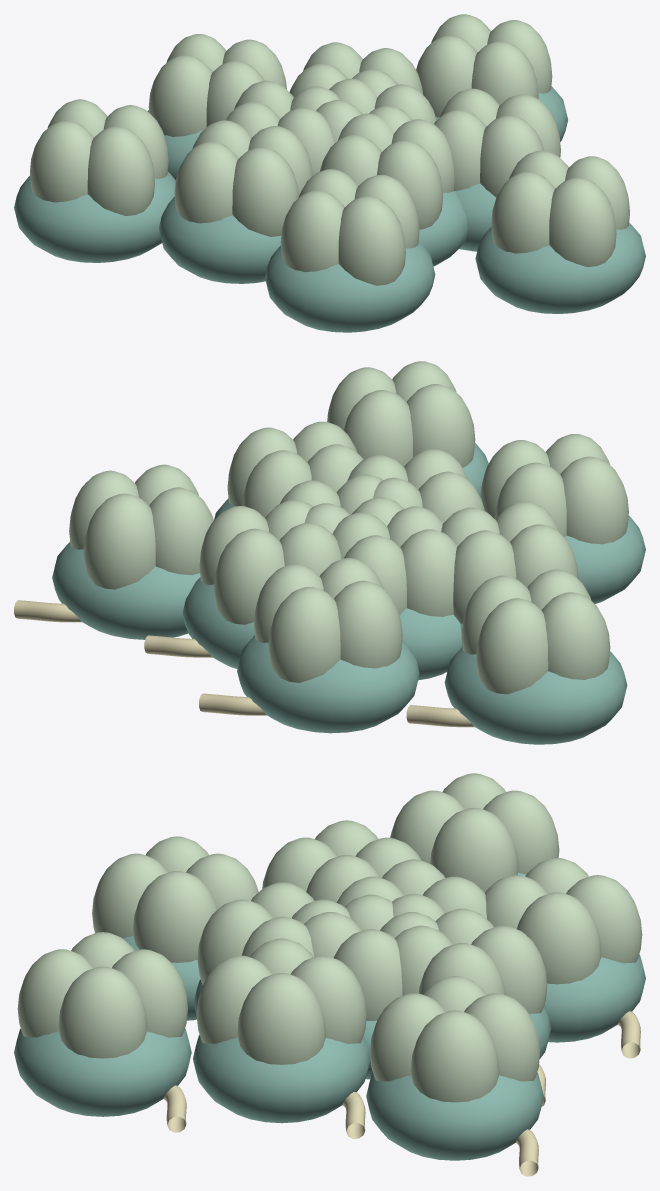
Rendered from bio_oxygen_reef_06_near.glb.
The picture shows the model from 3 angles, top to bottom: view 1: azimuth 30°, elevation 25°; view 2: azimuth 150°, elevation 25°; view 3: azimuth 270°, elevation 25°; orthographic projection. The views are drawn at different scales.
Visible parts, largest first — view 1: Lobed gas sac.040, Lobed gas sac.028, Lobed gas sac.036, Lobed gas sac.016, Lobed gas sac.032, Photosynthetic cushion.007, Photosynthetic cushion.010, Lobed gas sac.024, Lobed gas sac.020, Lobed gas sac.008, Photosynthetic cushion.009, Photosynthetic cushion.004 (+7 smaller); view 2: Lobed gas sac.036, Lobed gas sac.024, Lobed gas sac.032, Lobed gas sac.040, Lobed gas sac.028, Photosynthetic cushion.009, Photosynthetic cushion.006, Lobed gas sac.012, Lobed gas sac.004, Lobed gas sac.016, Lobed gas sac.020, Photosynthetic cushion.008 (+10 smaller); view 3: Lobed gas sac.020, Lobed gas sac.040, Lobed gas sac.032, Lobed gas sac.028, Lobed gas sac.036, Lobed gas sac.024, Photosynthetic cushion.008, Photosynthetic cushion.010, Photosynthetic cushion.005, Lobed gas sac.012, Lobed gas sac, Lobed gas sac.016 (+8 smaller).
Boxes of the visible parts, x1,y1,x2,y2 form: Lobed gas sac.040: (491,150,629,266); Lobed gas sac.028: (280,169,419,285); Lobed gas sac.036: (30,99,168,215); Lobed gas sac.016: (174,120,312,236); Lobed gas sac.032: (416,14,552,117); Photosynthetic cushion.007: (265,241,435,332); Photosynthetic cushion.010: (475,222,645,313); Lobed gas sac.024: (148,34,286,136); Lobed gas sac.020: (434,88,560,197); Lobed gas sac.008: (319,113,454,229); Photosynthetic cushion.009: (14,171,175,262); Photosynthetic cushion.004: (159,196,281,283); Lobed gas sac.036: (461,569,610,694); Lobed gas sac.024: (254,558,402,682); Lobed gas sac.032: (69,464,213,589); Lobed gas sac.040: (327,361,475,467); Lobed gas sac.028: (480,434,628,544); Photosynthetic cushion.009: (444,646,627,744); Photosynthetic cushion.006: (237,635,419,733); Lobed gas sac.012: (199,500,341,624); Lobed gas sac.004: (332,506,457,616); Lobed gas sac.016: (441,501,578,623); Lobed gas sac.020: (227,421,363,517); Photosynthetic cushion.008: (52,542,200,639); Lobed gas sac.020: (196,938,366,1064); Lobed gas sac.040: (17,932,187,1058); Lobed gas sac.032: (370,976,540,1102); Lobed gas sac.028: (92,836,258,962); Lobed gas sac.036: (390,773,559,892); Lobed gas sac.024: (485,858,642,984); Photosynthetic cushion.008: (366,1072,543,1160); Photosynthetic cushion.010: (14,1028,191,1116); Photosynthetic cushion.005: (193,1035,370,1123); Lobed gas sac.012: (394,908,547,1013); Lobed gas sac: (304,894,438,1020); Lobed gas sac.016: (262,820,421,902).
Size of the model in its own units: 1.85 by 0.45 by 1.71.
